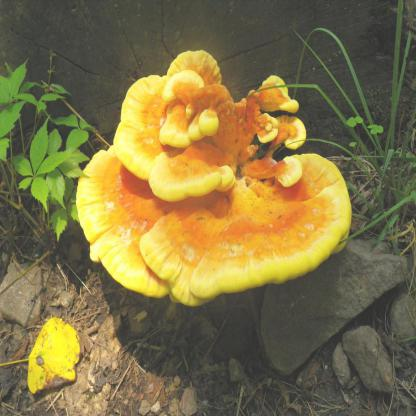CoW: (76, 51, 352, 308)
